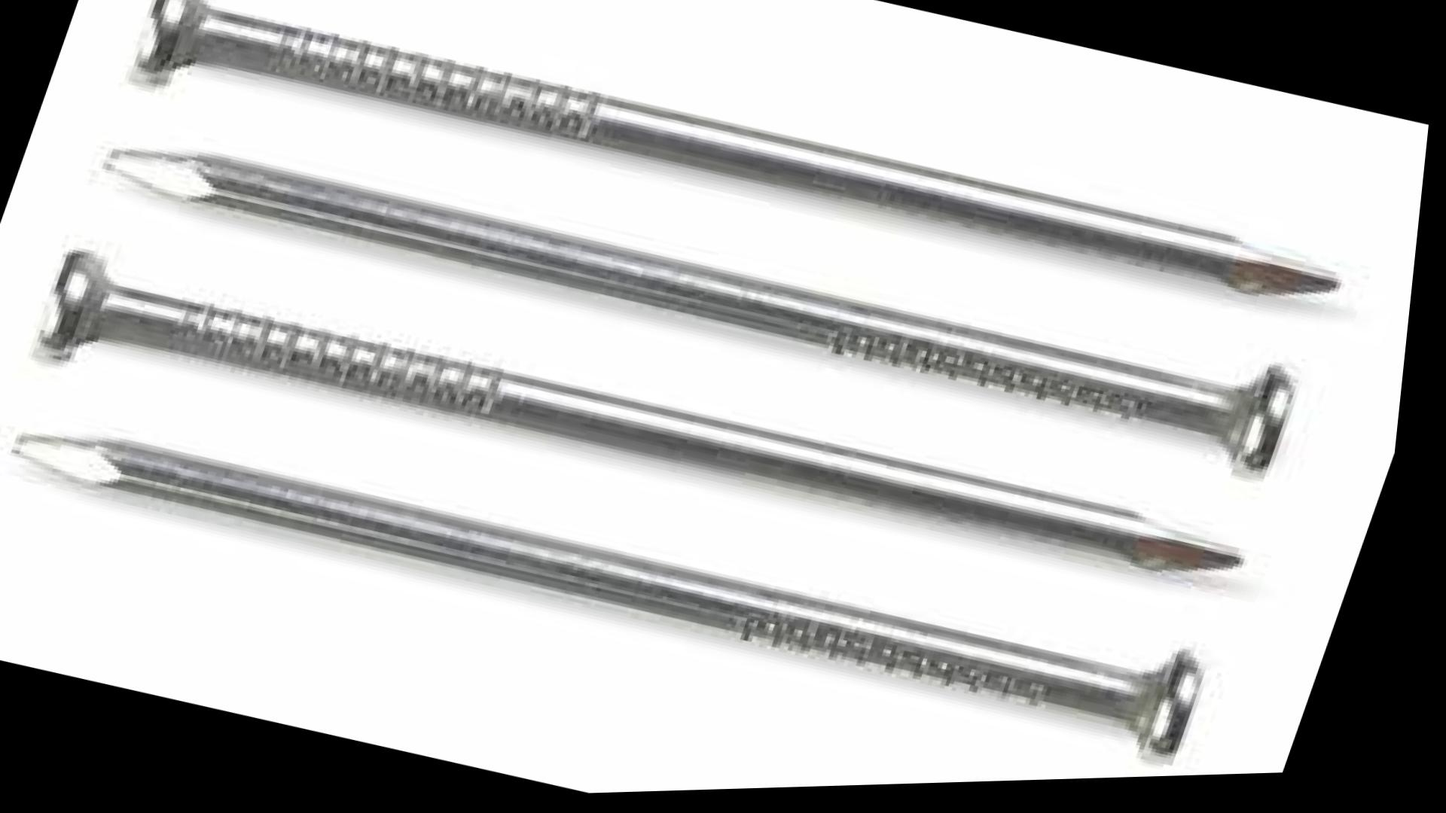nail: (0, 203, 1330, 677), (49, 70, 1367, 529), (0, 360, 1273, 812), (64, 0, 1408, 398)
